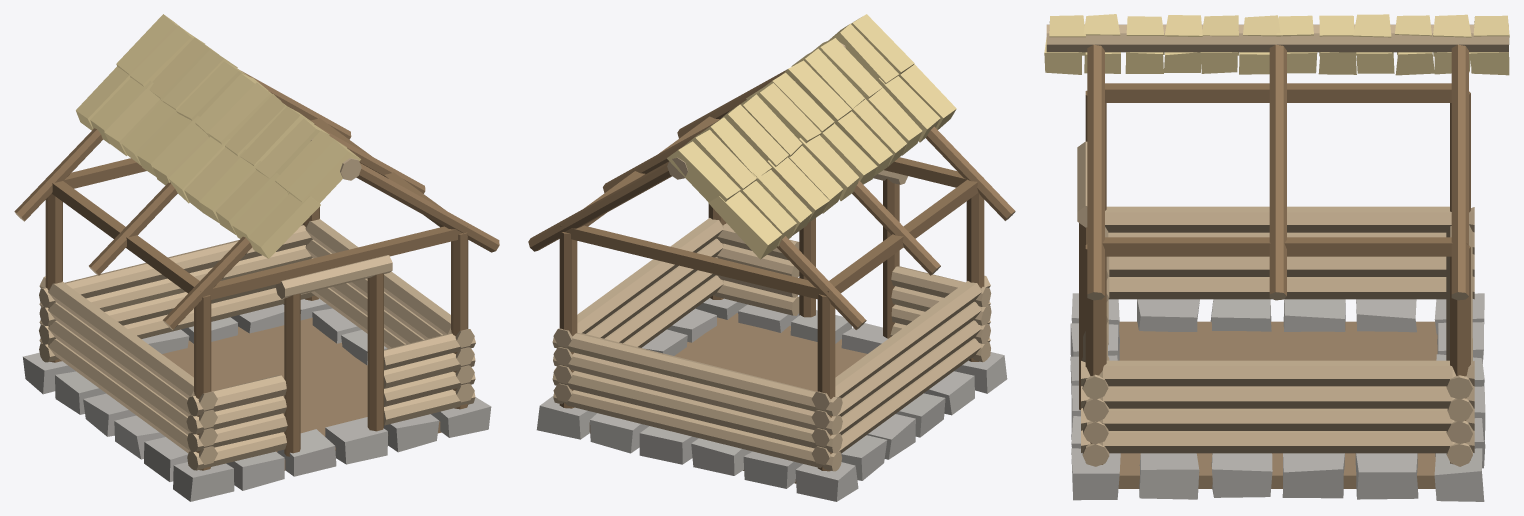
Rendered from building_storehouse_half.glb.
The picture shows the model from 3 angles, left to right: view 1: azimuth 30°, elevation 25°; view 2: azimuth 150°, elevation 25°; view 3: azimuth 270°, elevation 25°; orthographic projection. The views are drawn at different scales.
Visible parts, largest first — view 1: building_storehouse_half; view 2: building_storehouse_half; view 3: building_storehouse_half.
Boxes of the visible parts, x1,y1,x2,y2 form: building_storehouse_half: (14, 14, 499, 501); building_storehouse_half: (528, 14, 1015, 501); building_storehouse_half: (1044, 14, 1509, 501).
Bounding box in the file's own units: 3.85 × 3.56 × 3.78.
